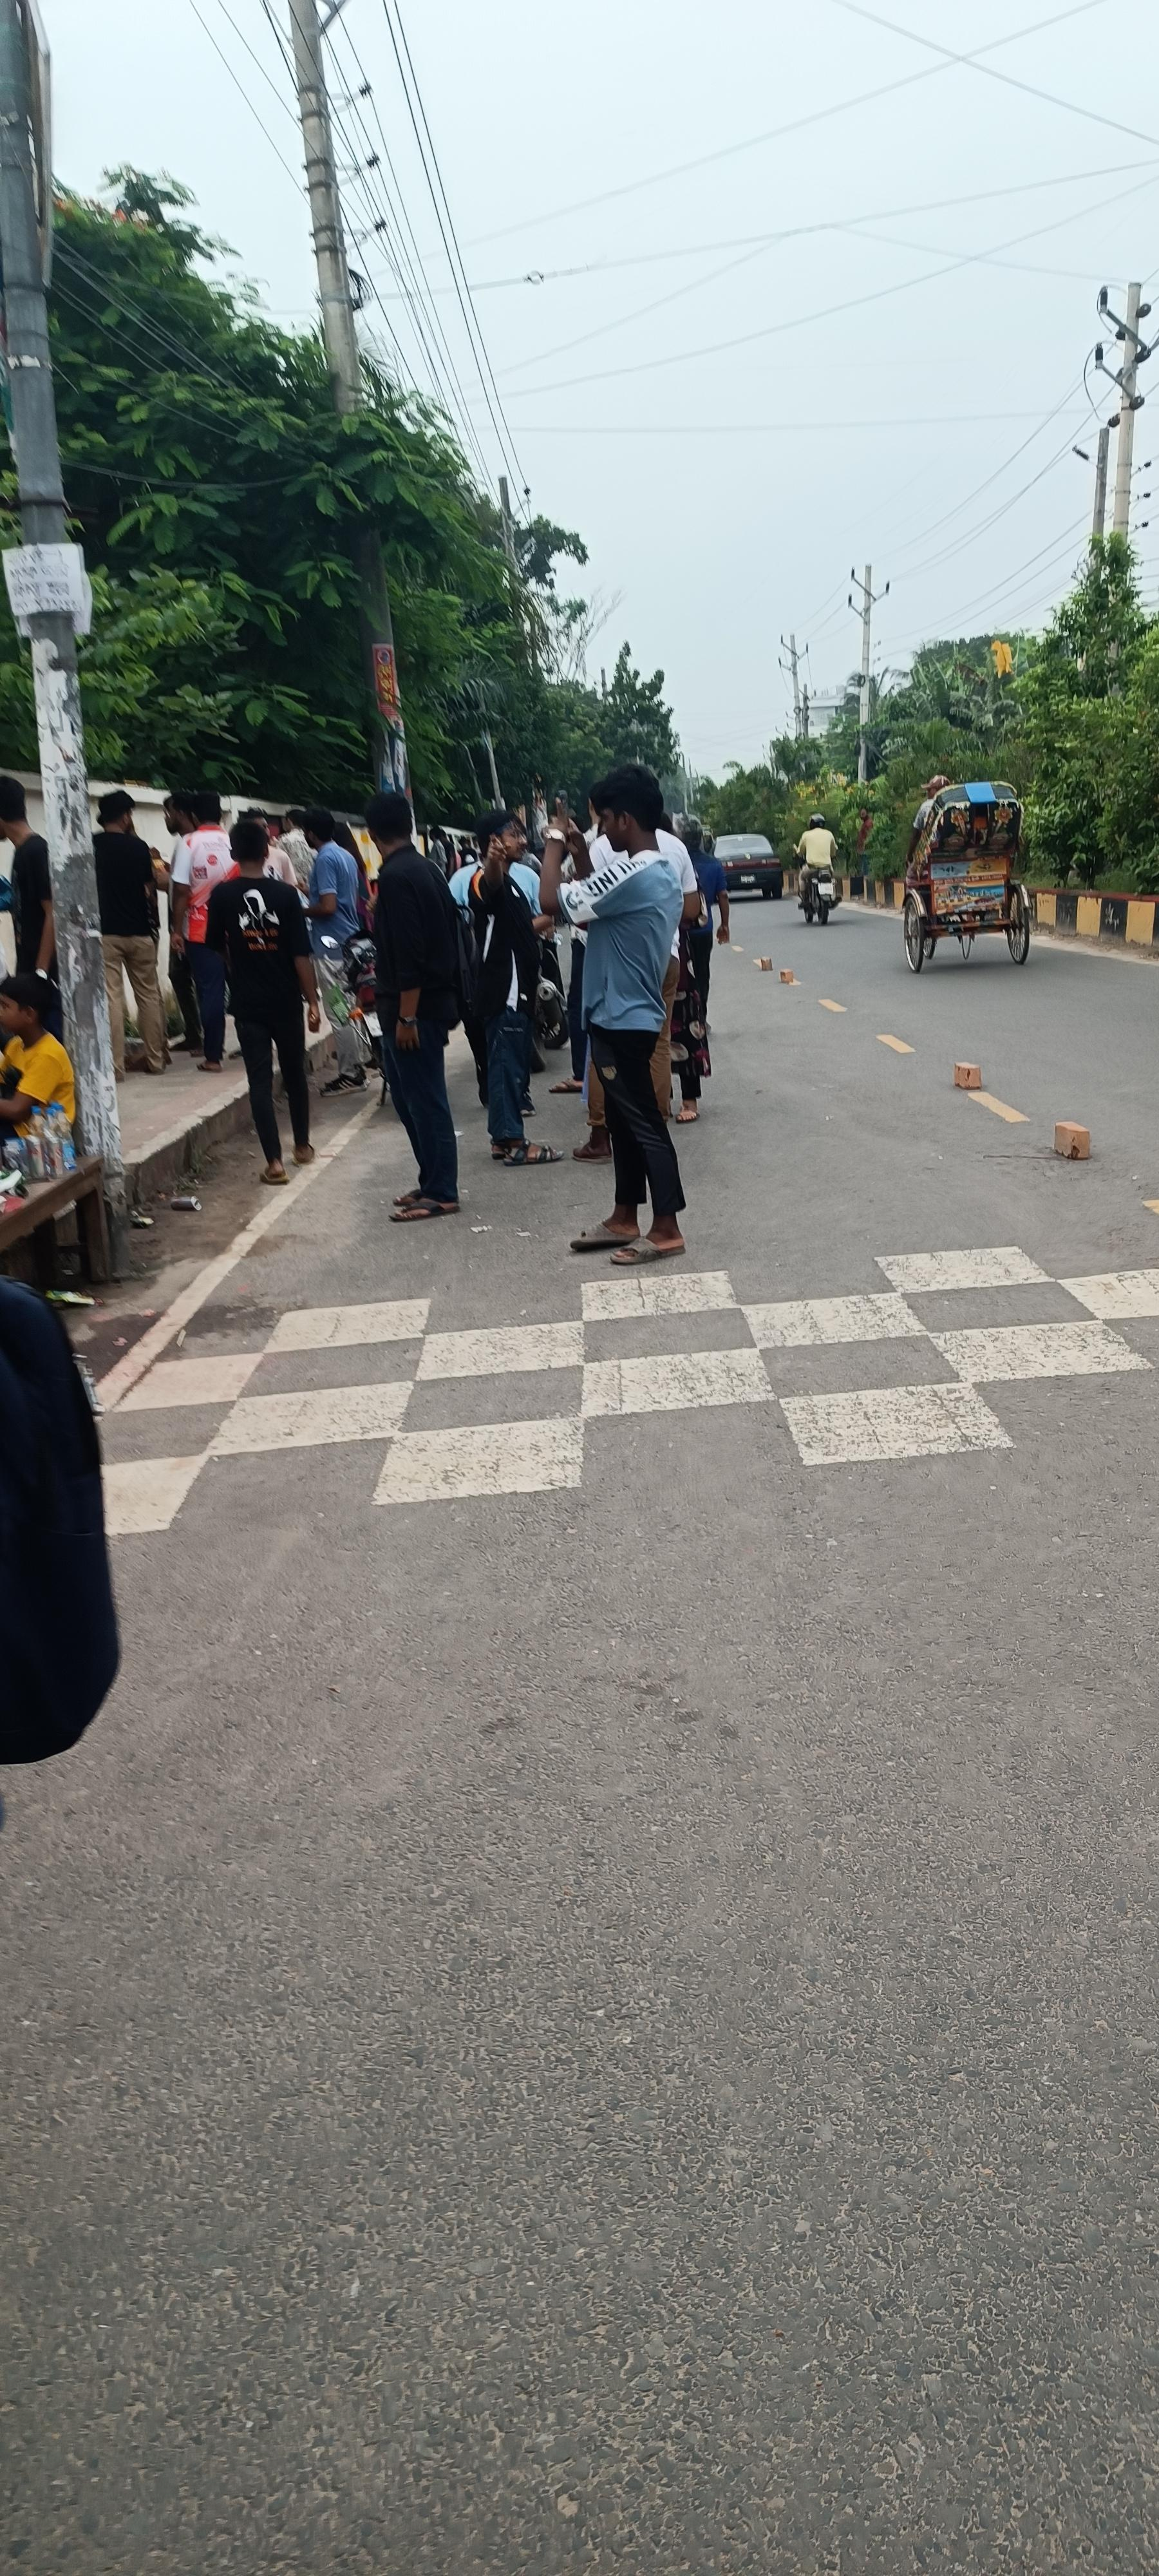Cat: (90, 1242, 1156, 1541)
Fallen-tree: (795, 848, 841, 925)
Garbage-bin: (538, 764, 699, 1263), (364, 792, 465, 1221), (204, 820, 322, 1183), (94, 789, 171, 1078), (0, 971, 77, 1138), (0, 774, 56, 979)
Traffic-cone: (900, 779, 1034, 973)
